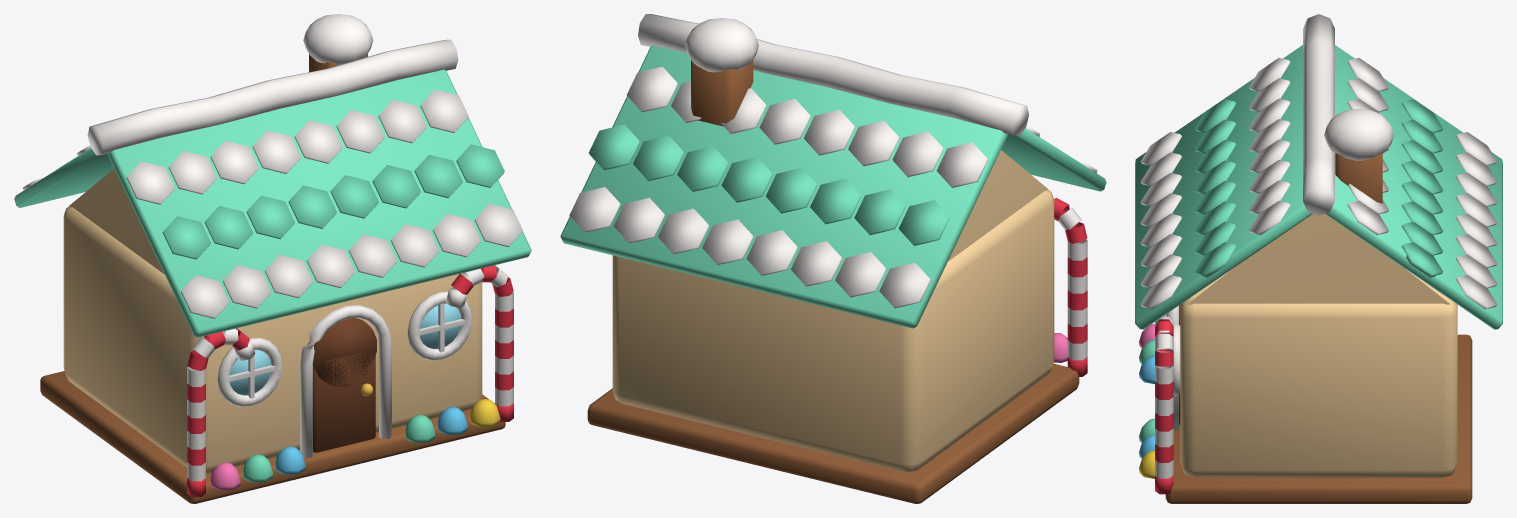
The model's file is candy_house_mint.glb.
3 renders of one model, left to right at view 1: azimuth 30°, elevation 25°; view 2: azimuth 150°, elevation 25°; view 3: azimuth 270°, elevation 25°, orthographic. The views are drawn at different scales.
Parts seen in each view (by area): view 1: C_HouseMint__C_mint_2, C_HouseMint__C_van_8, C_HouseMint__C_trim_mint_5, C_HouseMint__C_white_5, C_HouseMint__C_choc_8, C_HouseMint__C_choc_2, C_HouseMint__C_white_2, C_HouseMint__C_red_2, C_HouseMint__C_aqua_2, C_HouseMint__C_sky_2, C_HouseMint__C_pink_2, C_HouseMint__C_yel_2; view 2: C_HouseMint__C_van_8, C_HouseMint__C_mint_2, C_HouseMint__C_trim_mint_5, C_HouseMint__C_choc_8, C_HouseMint__C_white_5, C_HouseMint__C_red_2, C_HouseMint__C_white_2; view 3: C_HouseMint__C_van_8, C_HouseMint__C_mint_2, C_HouseMint__C_trim_mint_5, C_HouseMint__C_choc_8, C_HouseMint__C_white_5, C_HouseMint__C_red_2, C_HouseMint__C_white_2, C_HouseMint__C_sky_2.
Part boxes in pixels (box(x1,y1,x2,y2)): C_HouseMint__C_mint_2: box(14, 69, 531, 482); C_HouseMint__C_van_8: box(63, 168, 482, 473); C_HouseMint__C_trim_mint_5: box(23, 89, 522, 318); C_HouseMint__C_white_5: box(87, 14, 472, 458); C_HouseMint__C_choc_8: box(40, 53, 505, 503); C_HouseMint__C_choc_2: box(313, 318, 376, 452); C_HouseMint__C_white_2: box(187, 265, 513, 481); C_HouseMint__C_red_2: box(187, 265, 513, 496); C_HouseMint__C_aqua_2: box(230, 303, 461, 395); C_HouseMint__C_sky_2: box(275, 407, 467, 474); C_HouseMint__C_pink_2: box(210, 462, 240, 490); C_HouseMint__C_yel_2: box(469, 399, 500, 427); C_HouseMint__C_van_8: box(612, 150, 1054, 471); C_HouseMint__C_mint_2: box(560, 45, 1106, 328); C_HouseMint__C_trim_mint_5: box(569, 66, 1097, 308); C_HouseMint__C_choc_8: box(587, 60, 1079, 503); C_HouseMint__C_white_5: box(638, 14, 1028, 135); C_HouseMint__C_red_2: box(1054, 198, 1087, 376); C_HouseMint__C_white_2: box(1058, 207, 1087, 360); C_HouseMint__C_van_8: box(1180, 213, 1457, 477); C_HouseMint__C_mint_2: box(1135, 45, 1502, 442); C_HouseMint__C_trim_mint_5: box(1140, 58, 1497, 309); C_HouseMint__C_choc_8: box(1165, 153, 1472, 503); C_HouseMint__C_white_5: box(1166, 14, 1393, 430); C_HouseMint__C_red_2: box(1155, 319, 1173, 494); C_HouseMint__C_white_2: box(1155, 314, 1173, 478); C_HouseMint__C_sky_2: box(1139, 355, 1154, 458).
Size of the model in its own units: 5.62 by 5.42 by 5.04.
